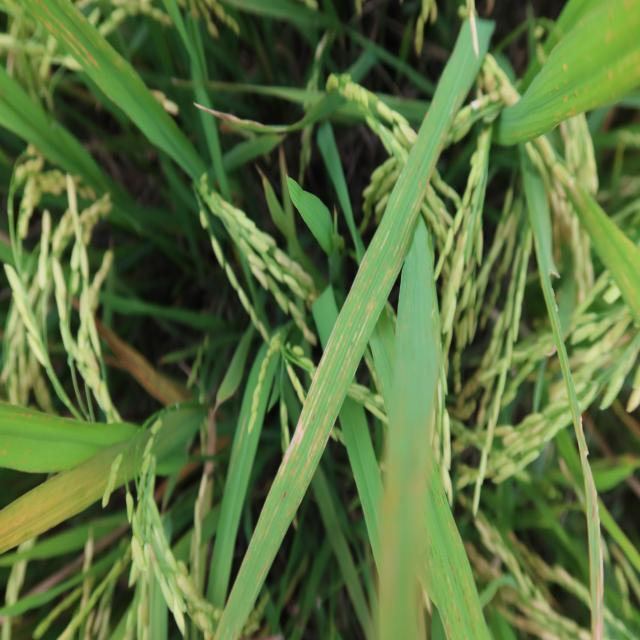Dom soc vi khuan: (277, 332, 341, 476), (344, 313, 370, 373), (305, 409, 332, 465), (365, 263, 392, 317), (340, 318, 364, 374), (380, 222, 393, 250)
